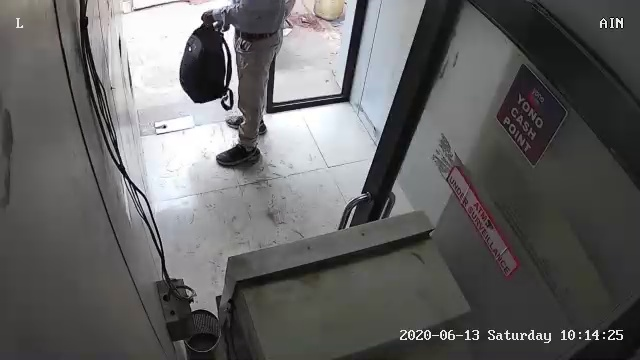open: (113, 4, 383, 138)
